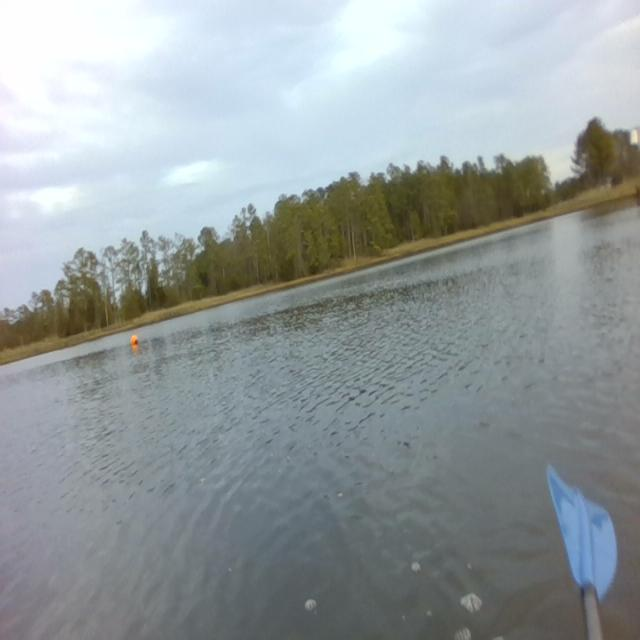Buoy: (130, 332, 140, 350)
